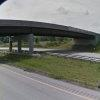Bridge: (4, 11, 86, 51)
